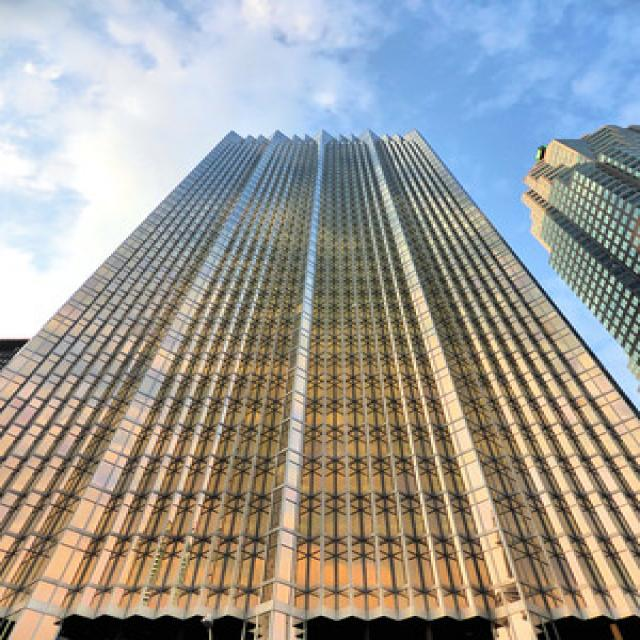Normal_building: (27, 125, 639, 632)
